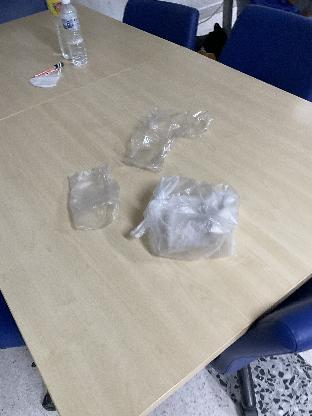Others: (140, 177, 239, 263), (122, 104, 214, 172), (65, 164, 117, 230)
Plastic Bottle: (50, 0, 92, 68)
